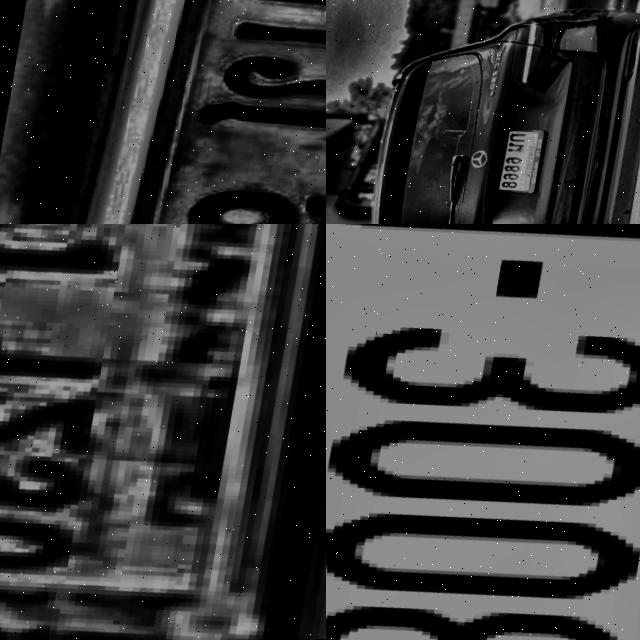license-plate: (0, 224, 326, 640), (326, 224, 640, 640), (24, 0, 326, 224), (494, 131, 546, 207)
